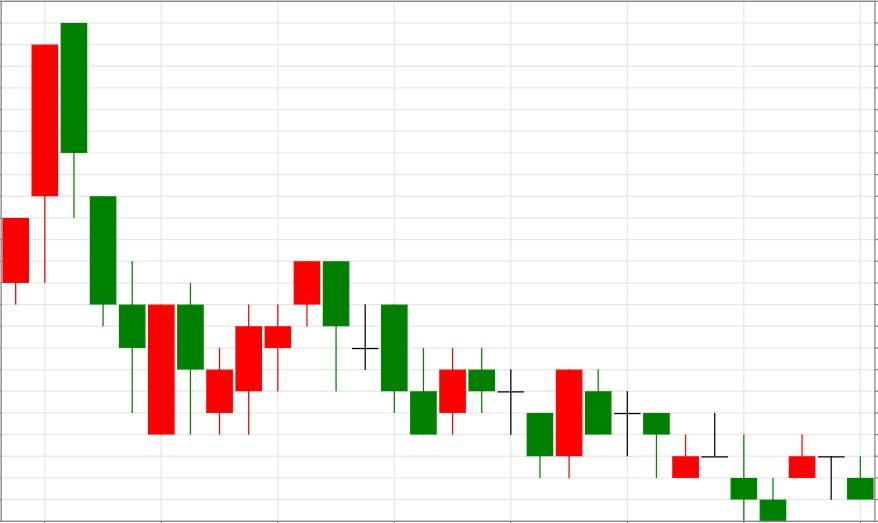bearish_engulfing_fall: (205, 261, 350, 436)
bullish_engulfing_rise: (466, 347, 584, 479)
three_black_crows_fall: (0, 22, 147, 413)
